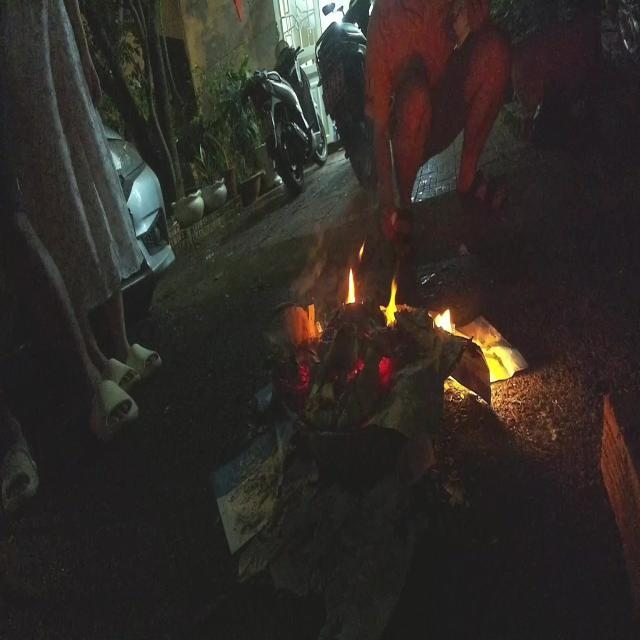Fire: (346, 240, 368, 304), (384, 274, 402, 328), (433, 302, 453, 338)
